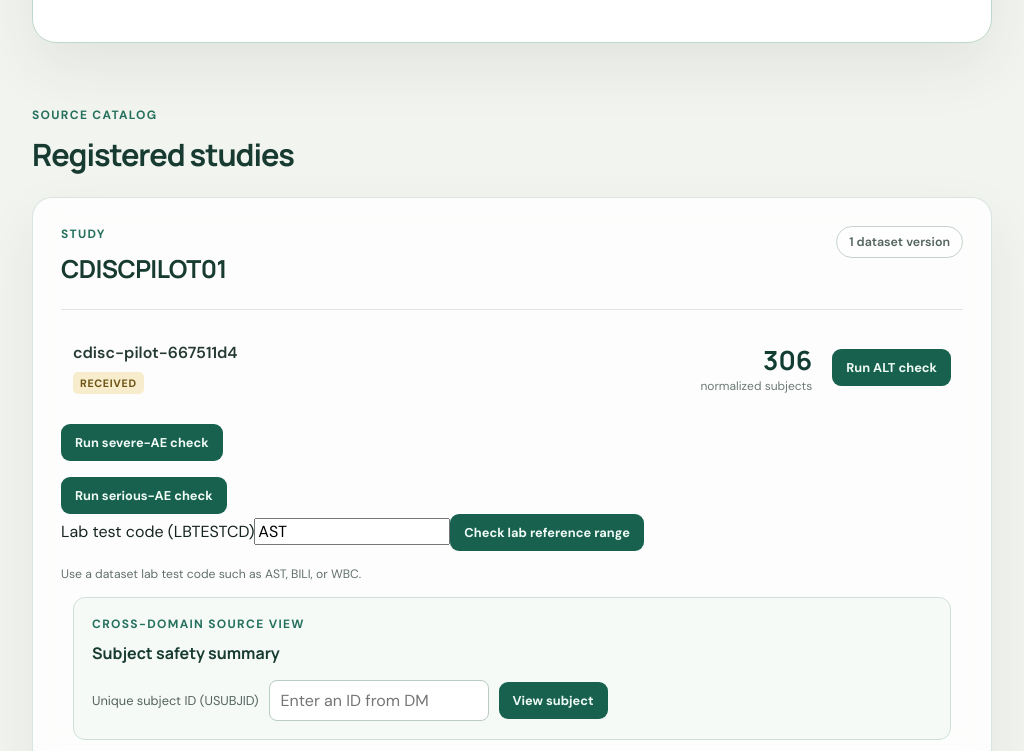
Test: App › disables the ALT button while the request is running
(page scrolled)
Click the button "Run ALT check".
click(892, 368)  # box [832, 349, 951, 386]
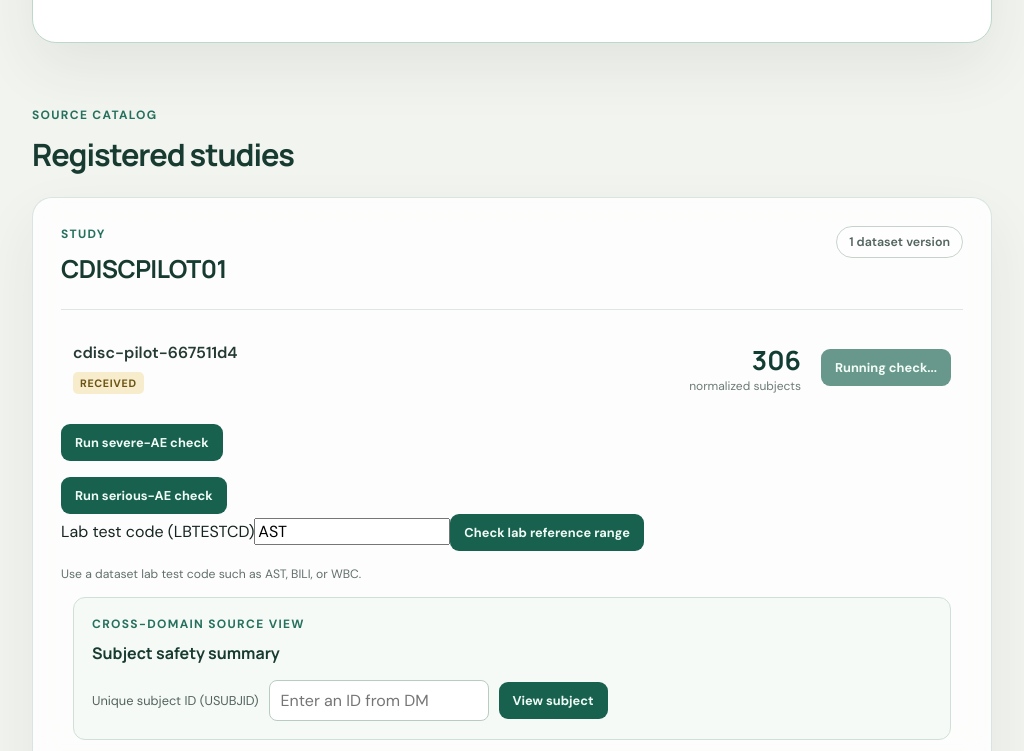
Check: the button "Running check..." is disabled, box [821, 349, 951, 386]
